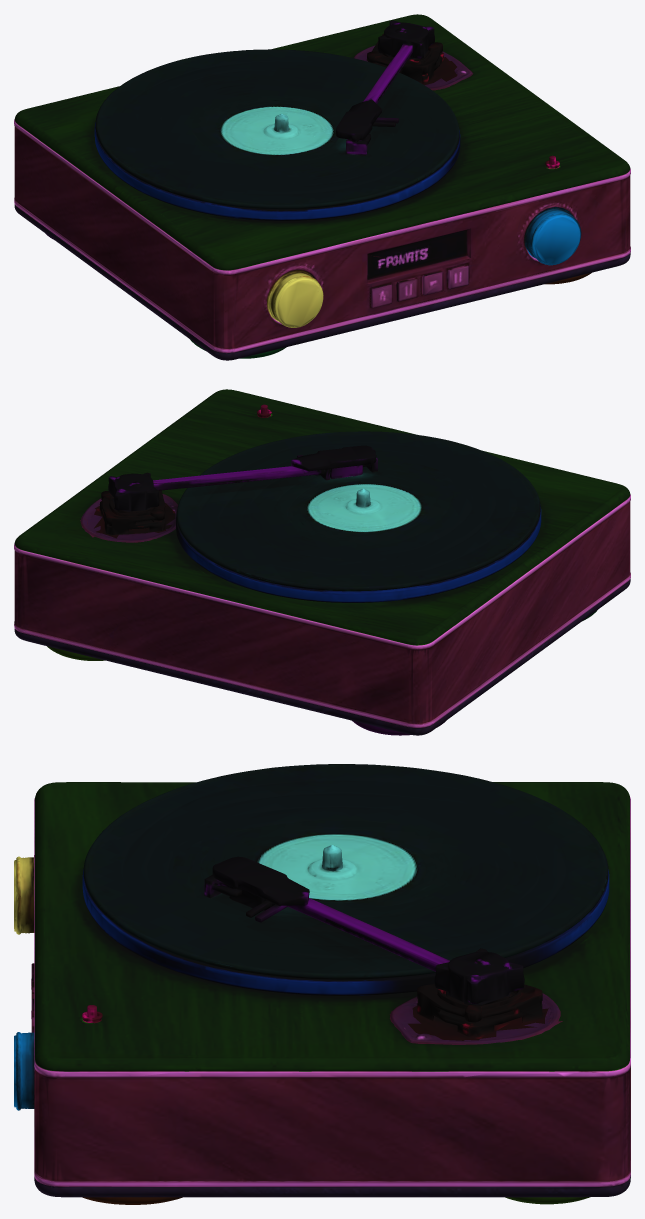
Rendered from 播放器分割.glb.
3 renders of one model, top to bottom at view 1: azimuth 30°, elevation 25°; view 2: azimuth 150°, elevation 25°; view 3: azimuth 270°, elevation 25°, orthographic. The views are drawn at different scales.
Parts seen in each view (by area): view 1: part_0; view 2: part_0; view 3: part_0.
Boxes of the visible parts, <box> form: part_0: <box>14,14,630,360</box>; part_0: <box>14,389,630,735</box>; part_0: <box>14,764,630,1204</box>.
Size of the model in its own units: 0.8927 by 0.3042 by 0.8188.
Materials: 1 (1 with a texture image).
